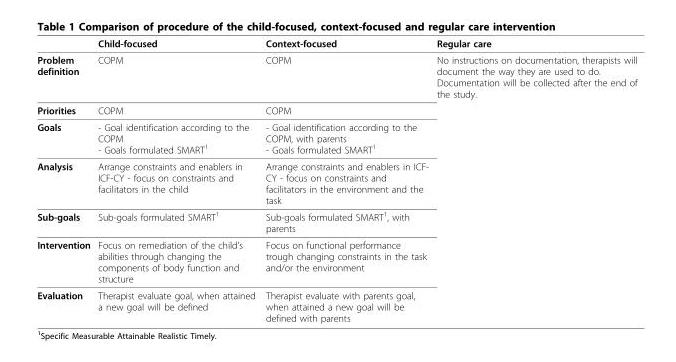table: (36, 37, 636, 323)
table column: (432, 37, 636, 323), (259, 37, 432, 323), (93, 37, 259, 323), (36, 37, 93, 323)
table column header: (36, 37, 636, 51)
table row: (36, 51, 636, 101), (36, 157, 636, 207), (36, 236, 636, 286), (36, 118, 636, 157), (36, 286, 636, 323), (36, 207, 636, 236), (36, 101, 636, 118), (36, 37, 636, 51)
